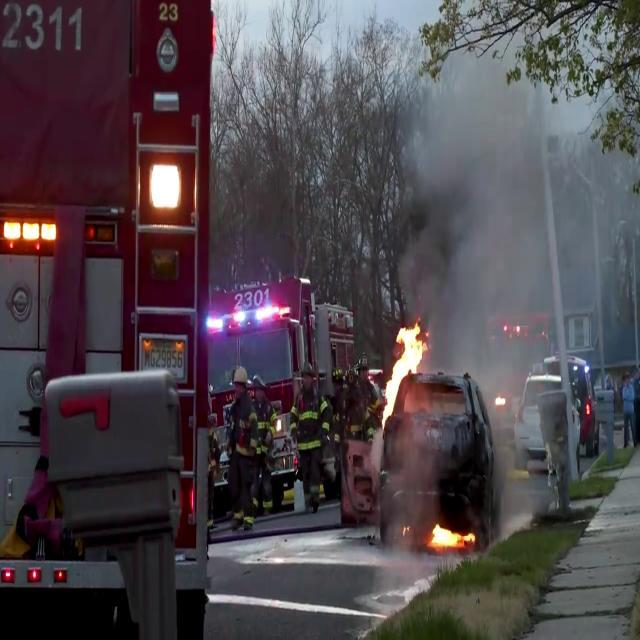Fire: (379, 308, 427, 424), (424, 512, 470, 558)
Smoke: (410, 44, 640, 408)
